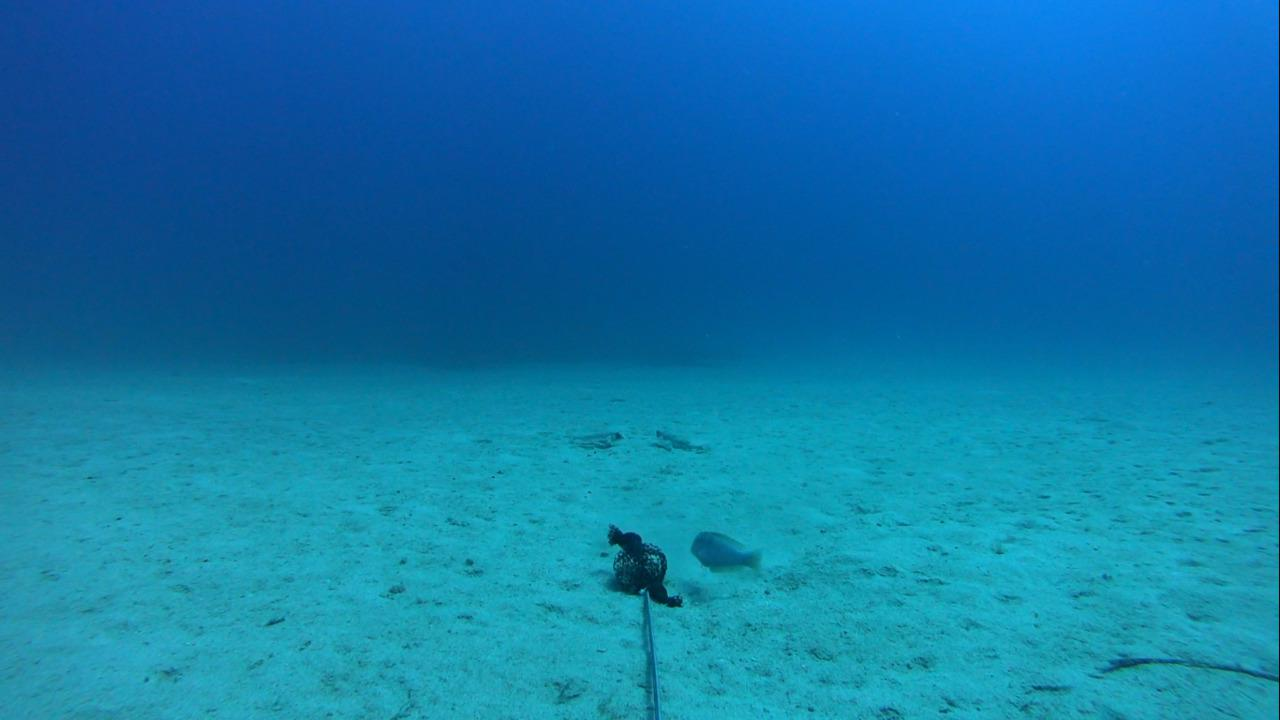dactylopterus: (643, 423, 720, 461), (558, 419, 626, 455)
raor: (684, 526, 765, 578)
